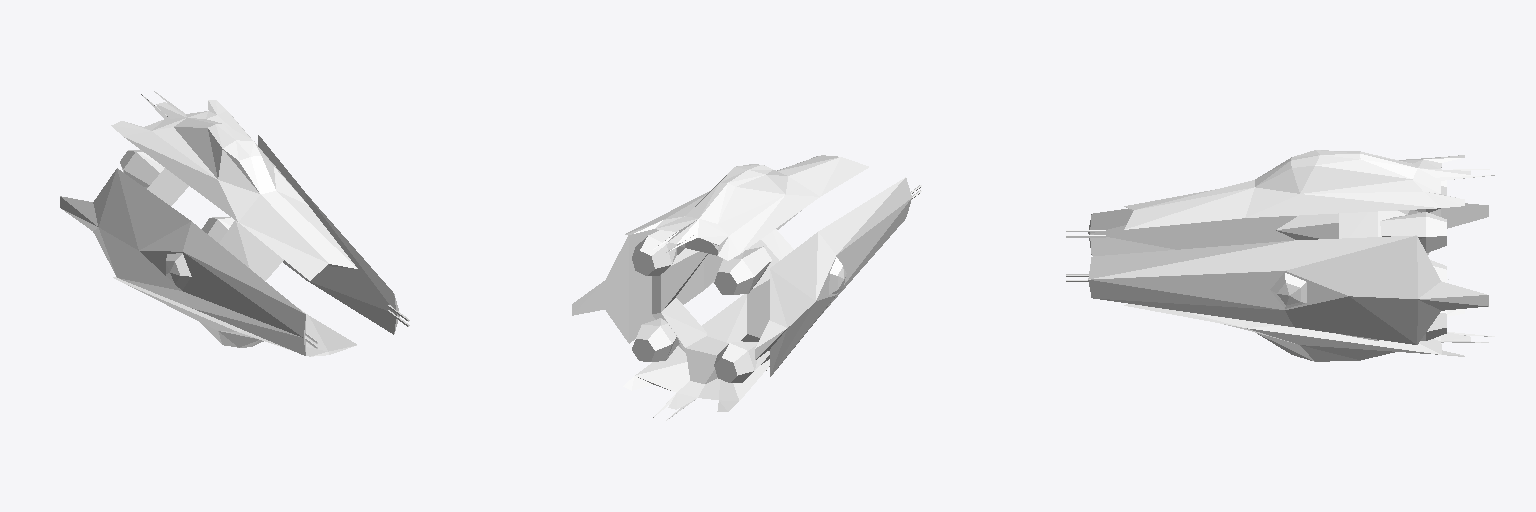
File: bom20.obj
The picture shows the model from 3 angles: view 1: azimuth 30°, elevation 25°; view 2: azimuth 150°, elevation 25°; view 3: azimuth 270°, elevation 25°; orthographic projection.
Visible parts, largest first — view 1: frm-zz_base_1_22, frm-zz_base_1_11, frm-zz_base_1_23, frm-zz_base_1_24, frm-bool1, frm-cyl30, frm-sphere7; view 2: frm-zz_base_1_22, frm-zz_base_1_11, frm-bool1, frm-zz_base_1_23, frm-zz_base_1_24, frm-cyl30, frm-cyl49, frm-cyl50, frm-cyl51; view 3: frm-zz_base_1_23, frm-zz_base_1_11, frm-zz_base_1_22, frm-zz_base_1_24, frm-bool1, frm-cyl51, frm-sphere8.
Part boxes in pixels (x1,y1,x2,y2): frm-zz_base_1_22: (60,168,305,355); frm-zz_base_1_11: (111,100,357,280); frm-zz_base_1_23: (258,135,399,334); frm-zz_base_1_24: (113,277,356,356); frm-bool1: (147,166,283,280); frm-cyl30: (120,150,164,188); frm-sphere7: (166,253,191,289); frm-zz_base_1_22: (755,177,911,376); frm-zz_base_1_11: (625,155,868,260); frm-bool1: (652,229,793,383); frm-zz_base_1_23: (572,156,817,343); frm-zz_base_1_24: (623,294,769,411); frm-cyl30: (714,246,771,294); frm-cyl49: (714,341,769,382); frm-cyl50: (632,318,679,361); frm-cyl51: (632,230,677,275); frm-zz_base_1_23: (1088,235,1488,344); frm-zz_base_1_11: (1124,150,1470,229); frm-zz_base_1_22: (1088,203,1488,255); frm-zz_base_1_24: (1124,304,1470,361); frm-bool1: (1276,210,1409,340); frm-cyl51: (1380,212,1446,252); frm-sphere8: (1270,272,1306,308).
Bounding box in the file's own units: 3.57 × 3.8 × 7.27.